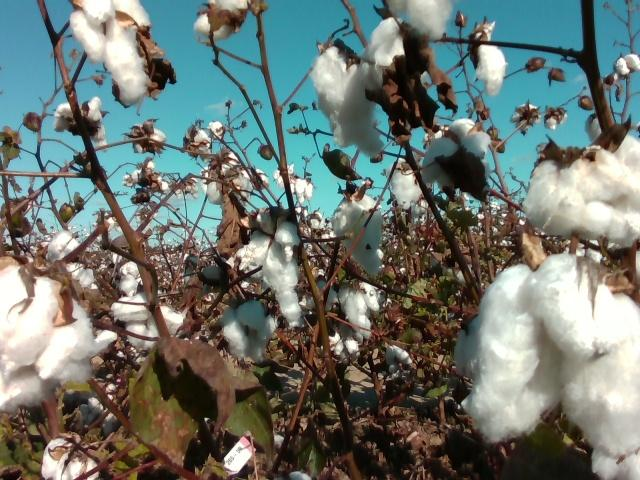cotton_ready: (461, 249, 640, 461), (0, 265, 119, 412), (524, 148, 640, 247), (70, 0, 157, 106), (309, 45, 385, 164), (245, 208, 305, 328), (418, 117, 495, 189), (366, 17, 430, 90), (331, 194, 382, 281), (114, 293, 186, 354), (222, 299, 277, 367), (325, 278, 380, 341), (54, 97, 111, 154), (46, 231, 97, 289), (385, 0, 452, 41), (40, 435, 101, 480), (196, 0, 249, 47), (591, 130, 640, 178), (385, 160, 426, 211), (475, 43, 508, 96), (207, 169, 253, 204), (118, 262, 148, 297)
